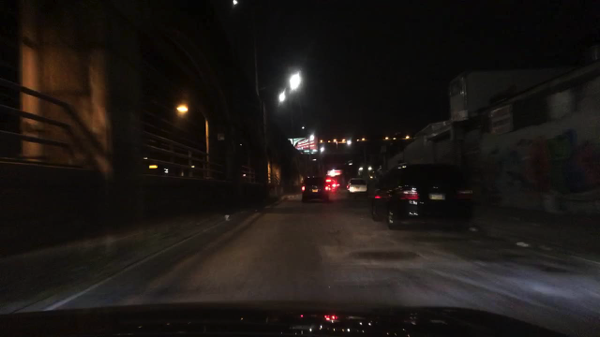car: (369, 162, 474, 231), (300, 175, 330, 204), (346, 177, 369, 200), (325, 176, 338, 194)
